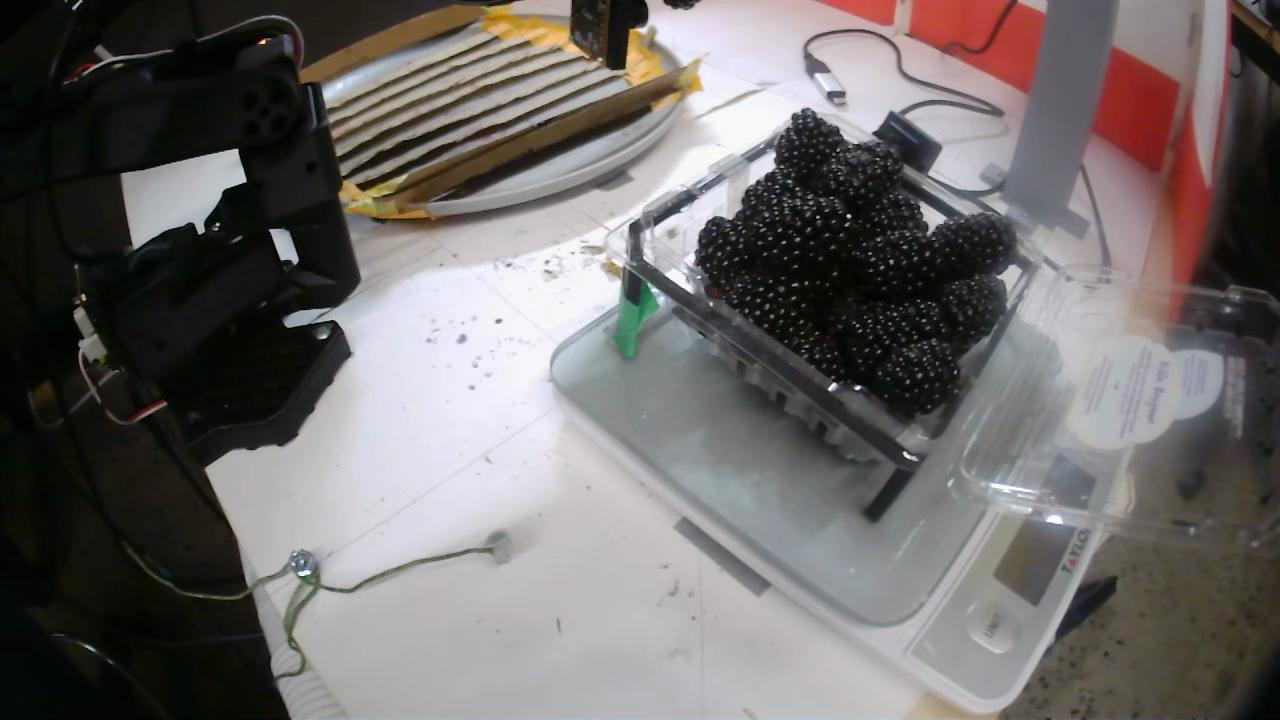berry: (716, 273, 827, 352), (739, 193, 851, 270), (870, 340, 958, 415), (849, 302, 944, 369), (865, 231, 952, 299), (928, 213, 1014, 280), (776, 109, 847, 187), (827, 142, 903, 213), (845, 185, 928, 247), (939, 275, 1004, 354), (696, 217, 740, 296), (792, 333, 852, 383), (740, 170, 798, 212), (663, 0, 699, 9)
